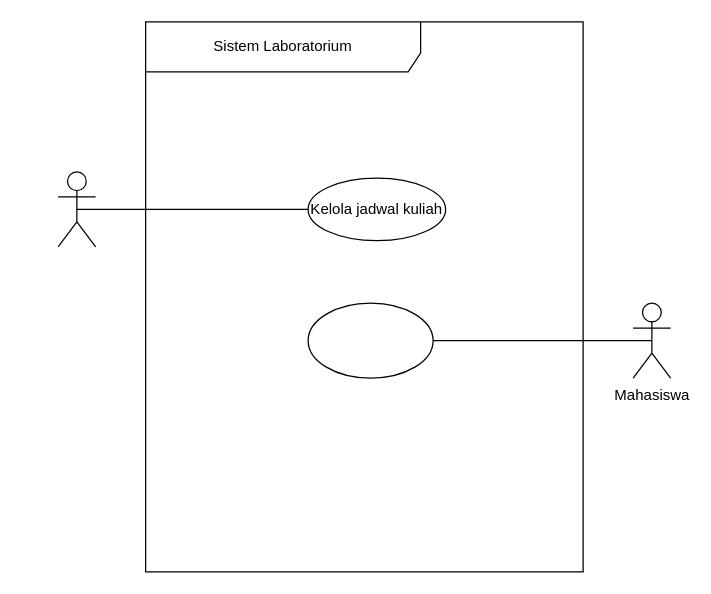
Some shapes in this 711 by 594 pixel diagram are drawn without their labels. The shapes that lost their labels are listed below. From the top down, each one's centre as x and y in pixels, then its label:
At [76,209]: "Admin akademik".
At [370,340]: "melihat jadwal kuliah".
